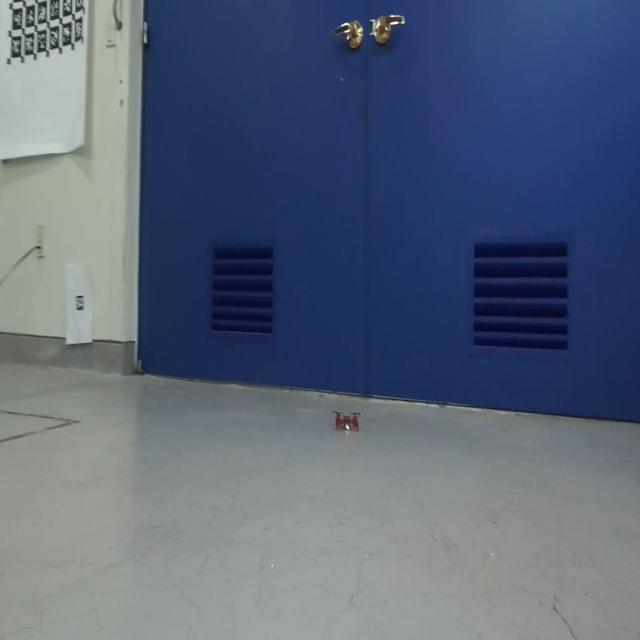crazyflie: (329, 405, 365, 435)
